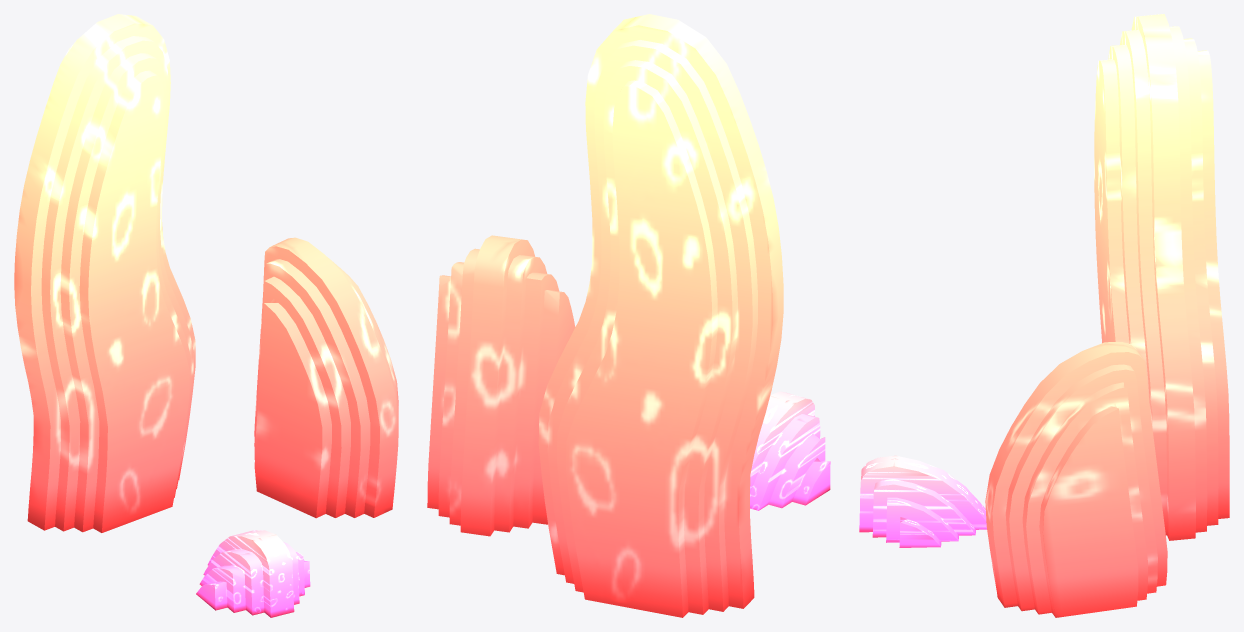
File: baby_001.fbx
3 views of the same model, side by side, from view 1: azimuth 30°, elevation 25°; view 2: azimuth 150°, elevation 25°; view 3: azimuth 270°, elevation 25° (orthographic). The views are drawn at different scales.
Parts seen in each view (by area): view 1: baby.001; view 2: baby.001; view 3: baby.001.
Boxes of the visible parts, x1=… form: baby.001: x1=14, y1=14, x2=398, y2=617; baby.001: x1=427, y1=14, x2=830, y2=617; baby.001: x1=859, y1=14, x2=1229, y2=617.
Size of the model in its own units: 7132 by 10203 by 6892.
